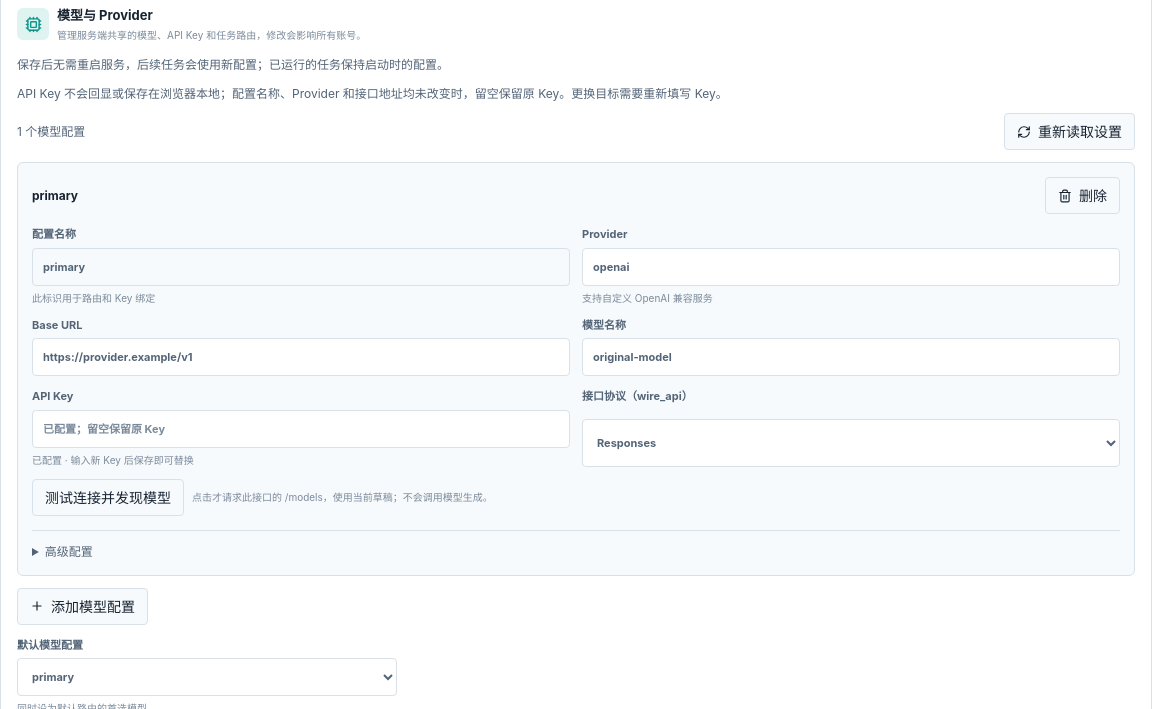
Test: model diagnostics draft workbench › does not let an unsupported model-list endpoint prevent manual editing
Click the button with aria-label "测试 primary 连接并发现模型": (108, 497) [32, 479, 184, 516]
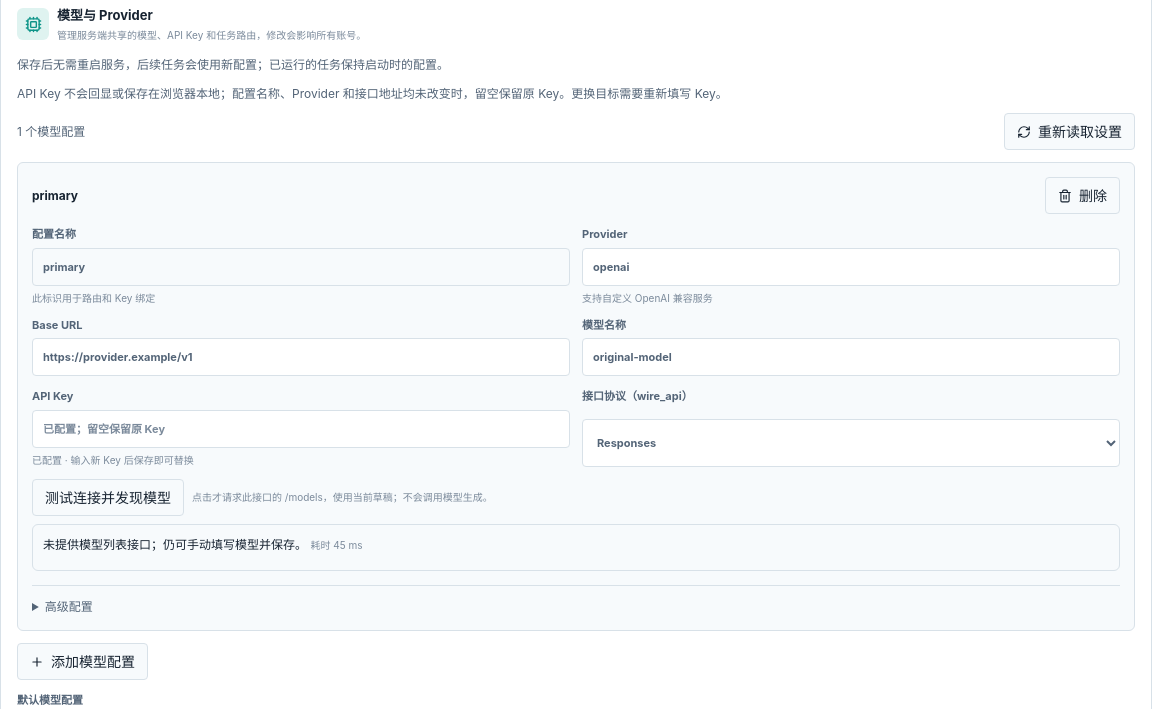
Now the text "未提供模型列表接口；仍可手动填写模型并保存。 耗时 45 ms" is shown, box [43, 537, 362, 552]
In the field named "primary 模型名称": (851, 357) [582, 338, 1120, 376], type "-manual"
(page scrolled)
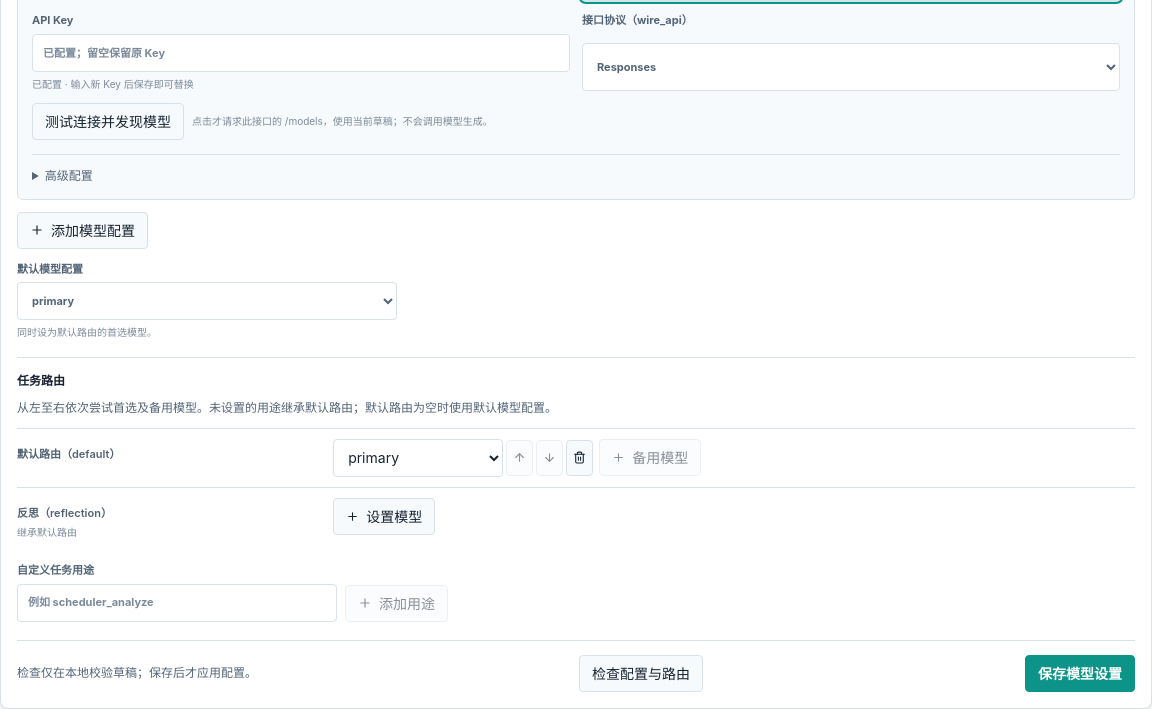
Now the button "保存模型设置" is enabled, box [1025, 655, 1135, 692]
